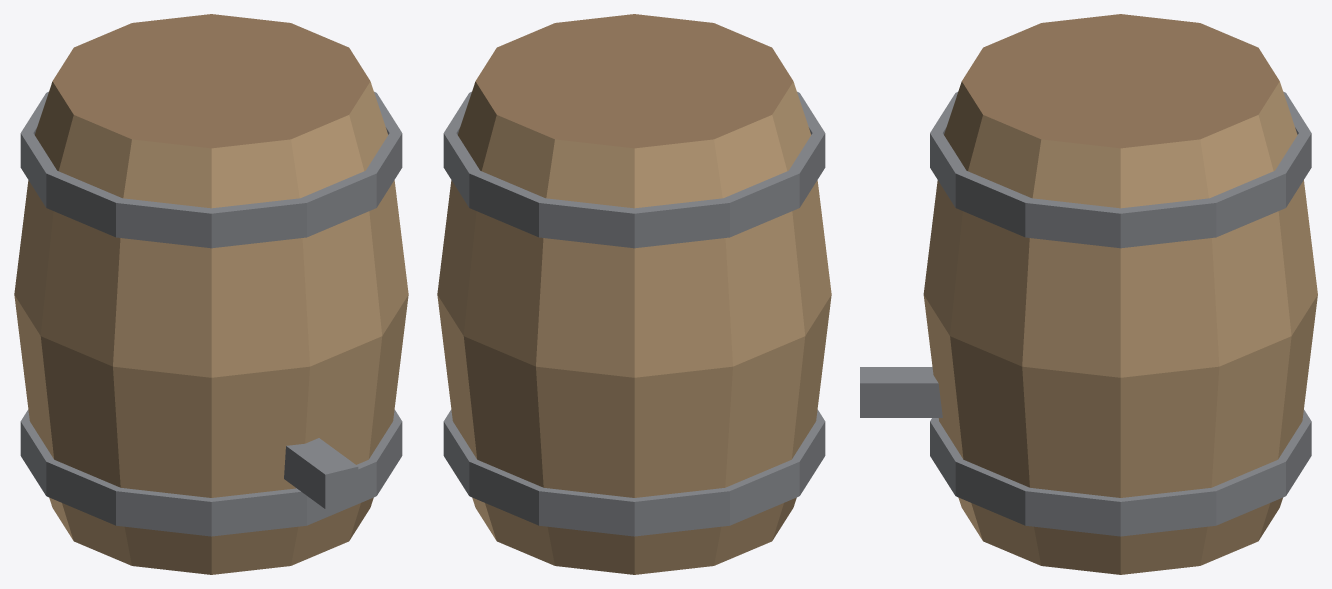
The model's file is Keg.fbx.
3 renders of one model, left to right at view 1: azimuth 30°, elevation 25°; view 2: azimuth 150°, elevation 25°; view 3: azimuth 270°, elevation 25°, orthographic.
Visible parts, largest first — view 1: Keg; view 2: Keg; view 3: Keg.
Part boxes in pixels (x1,y1,x2,y2): Keg: (14,14,408,574); Keg: (437,14,831,574); Keg: (860,14,1317,574).
Bounding box in the file's own units: 0.62 × 0.74 × 0.72.
